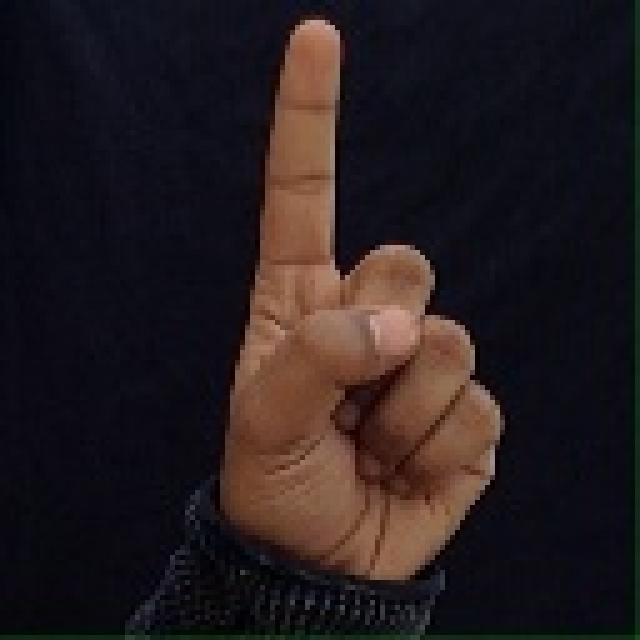Numeric-1: (222, 20, 495, 597)
